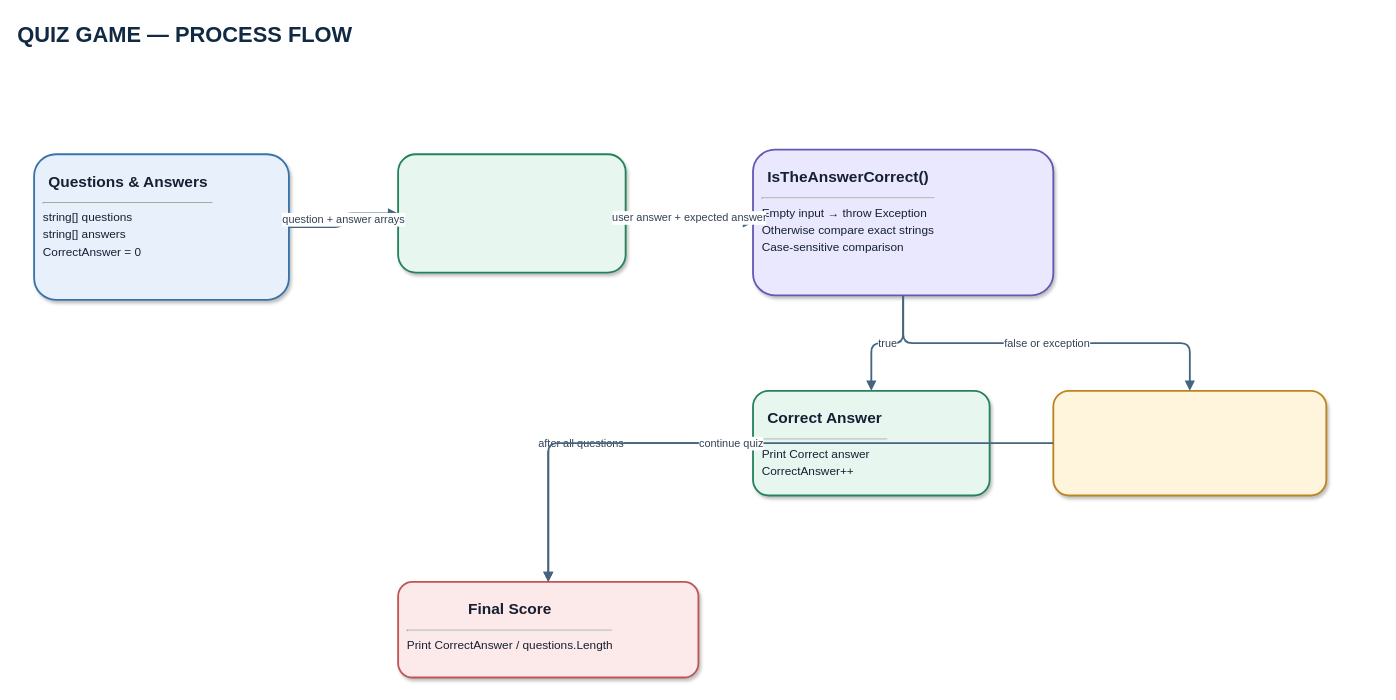
Some shapes in this 1396 by 700 pixel diagram are drawn without their labels. Each missing label, with the centre of its shape:
"for Loop Ask questions[i] Read userAnswer Repeat for each question" goes at point 512,214.
"Incorrect / Empty Show expected answer or caught exception message" goes at point 1190,444.
